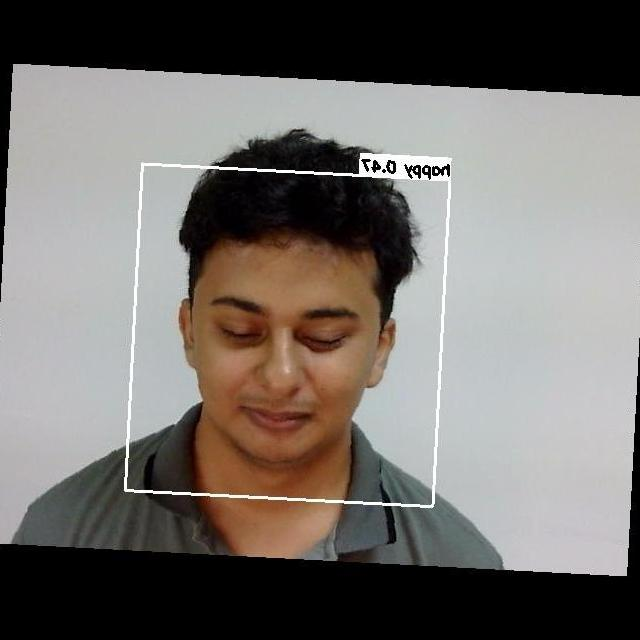Sad: (202, 275, 371, 439)
